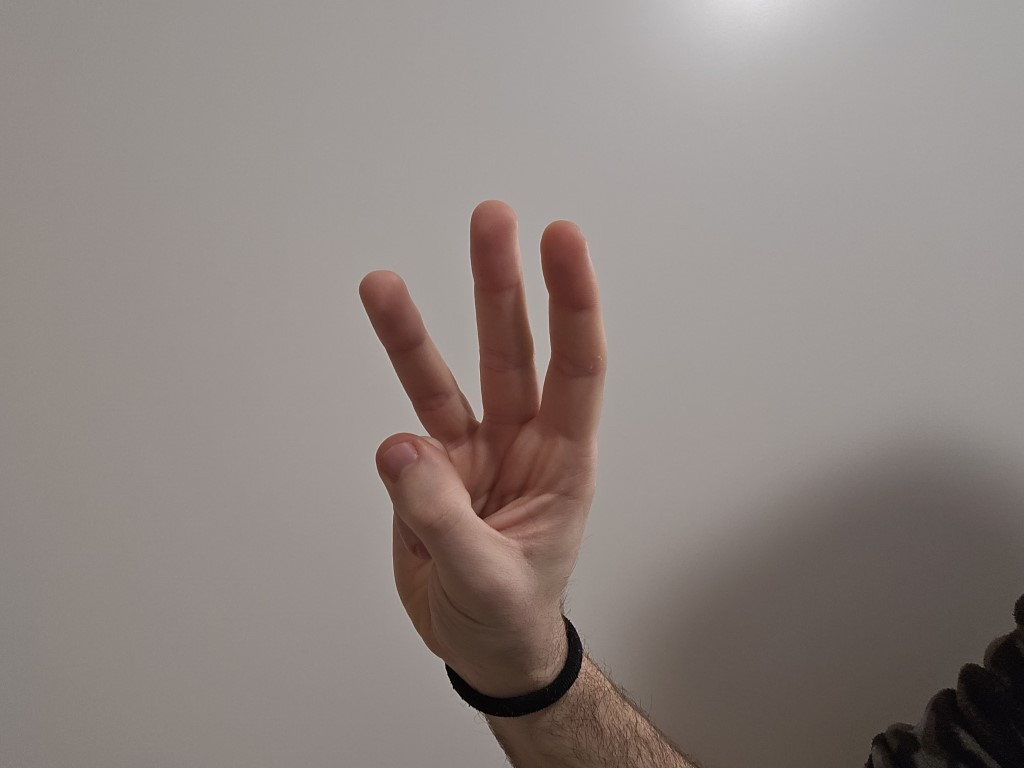w: (322, 175, 630, 649)
